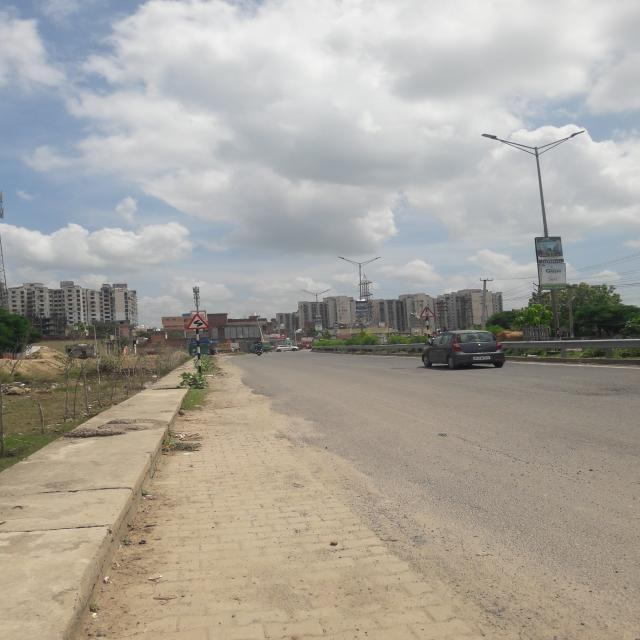left reverse bend: (186, 314, 210, 330)
